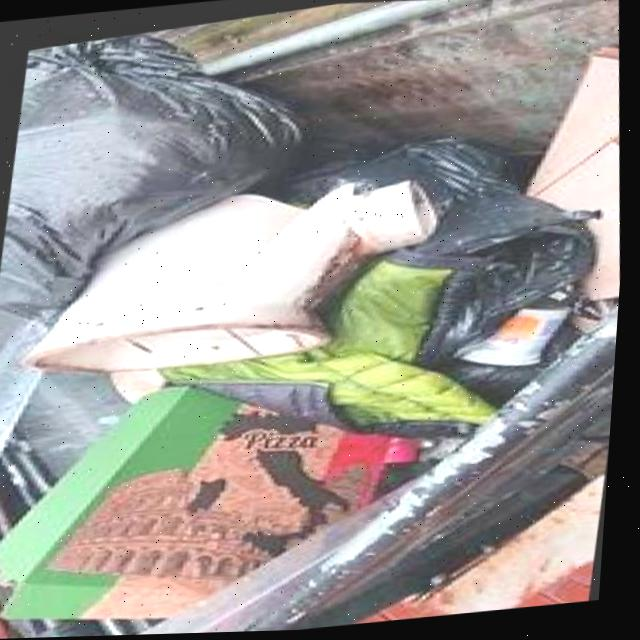Garbage: (0, 30, 598, 614)
Plastic_Bag: (0, 30, 300, 319)
Plastic_Container: (29, 183, 438, 368)
